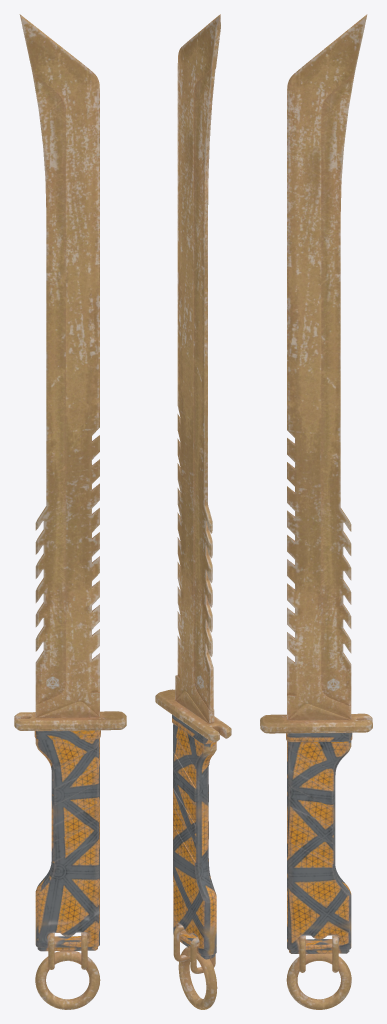
The model's file is 24ct Katana.glb.
The picture shows the model from 3 angles, left to right: view 1: azimuth 90°, elevation 25°; view 2: azimuth 210°, elevation 25°; view 3: azimuth 270°, elevation 25°; orthographic projection.
Parts seen in each view (by area): view 1: Katana; view 2: Katana; view 3: Katana.
Boxes of the visible parts, x1,y1,x2,y2 form: Katana: (14,14,126,1009); Katana: (155,14,231,1009); Katana: (260,14,372,1009).
Size of the model in its own units: 0.0344 by 1.3 by 0.1335.
Materials: 1 (1 with a texture image).
